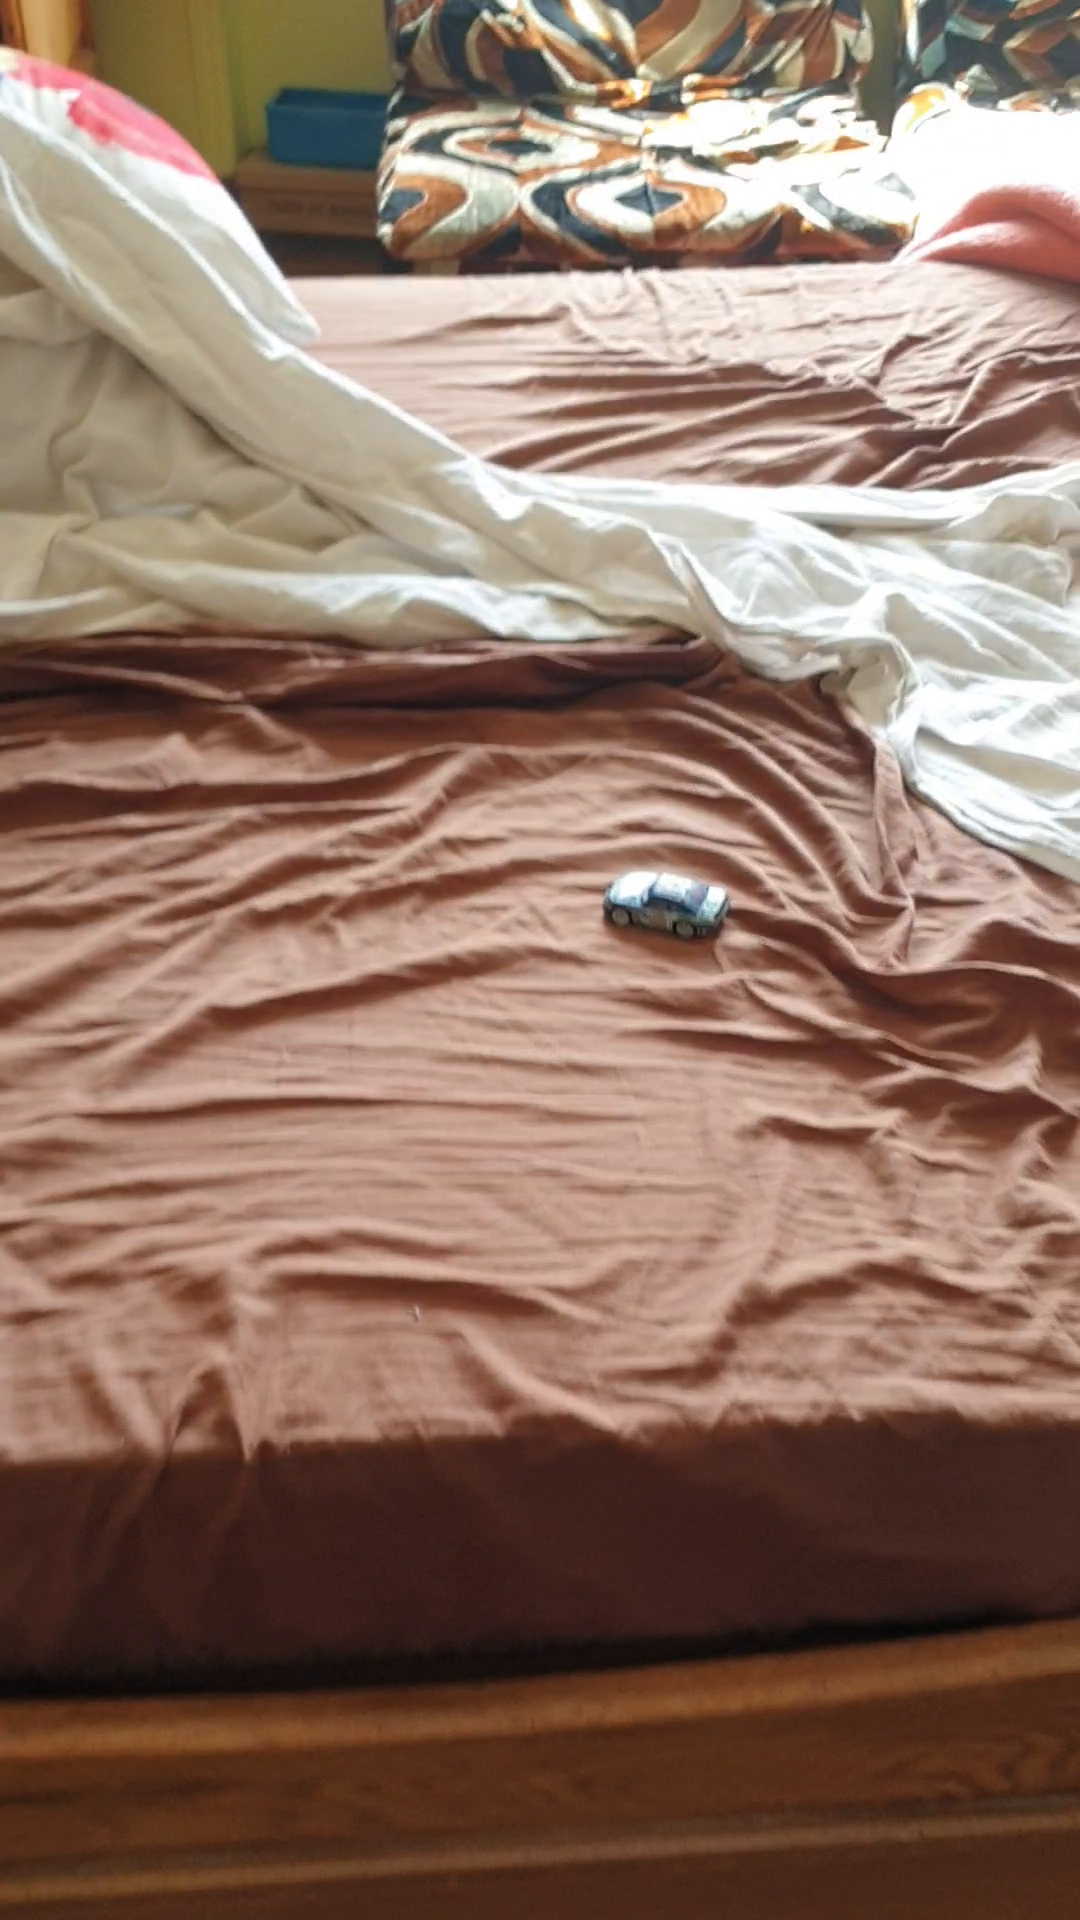cars: (601, 872, 729, 938)
